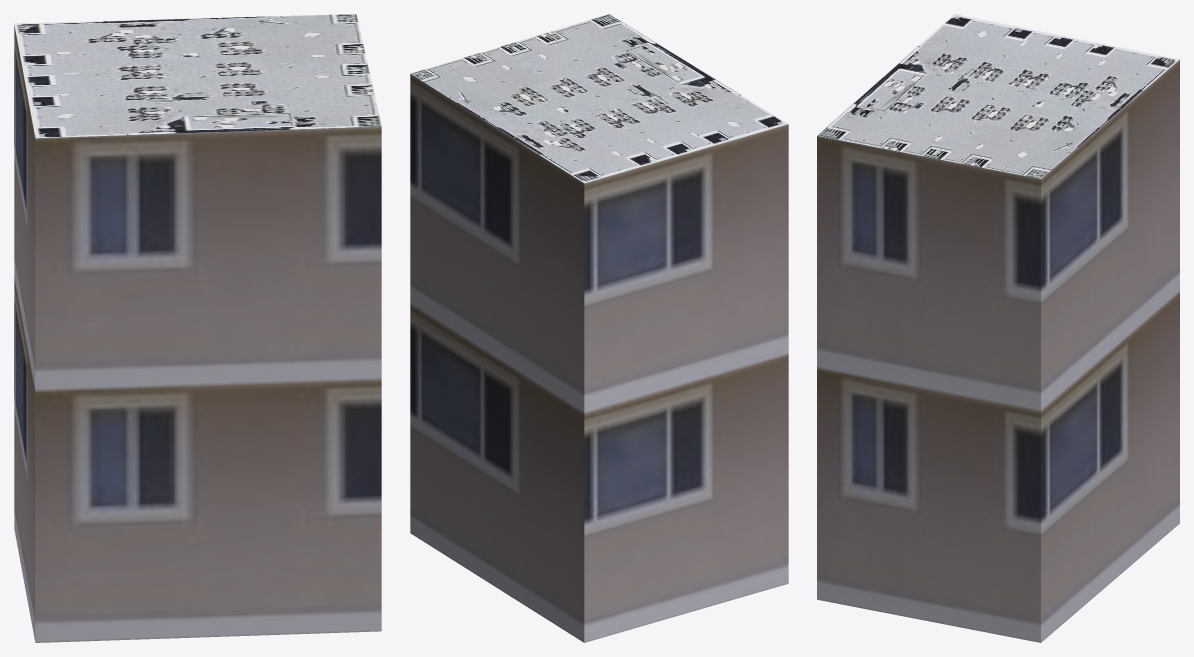
File: ResTex__4925.fbx
3 renders of one model, left to right at view 1: azimuth 30°, elevation 25°; view 2: azimuth 150°, elevation 25°; view 3: azimuth 270°, elevation 25°, orthographic. The views are drawn at different scales.
Visible parts, largest first — view 1: CityEngineMaterial_21_m, CityEngineMaterial_8_m; view 2: CityEngineMaterial_21_m, CityEngineMaterial_8_m; view 3: CityEngineMaterial_21_m, CityEngineMaterial_8_m.
Boxes of the visible parts, x1=… form: CityEngineMaterial_21_m: x1=14, y1=25, x2=381, y2=642; CityEngineMaterial_8_m: x1=14, y1=14, x2=381, y2=138; CityEngineMaterial_21_m: x1=410, y1=74, x2=788, y2=642; CityEngineMaterial_8_m: x1=411, y1=14, x2=788, y2=183; CityEngineMaterial_21_m: x1=817, y1=60, x2=1179, y2=642; CityEngineMaterial_8_m: x1=817, y1=14, x2=1179, y2=178.
Size of the model in its own units: 4.58 by 6 by 4.25.
Materials: 2 (2 with a texture image).
